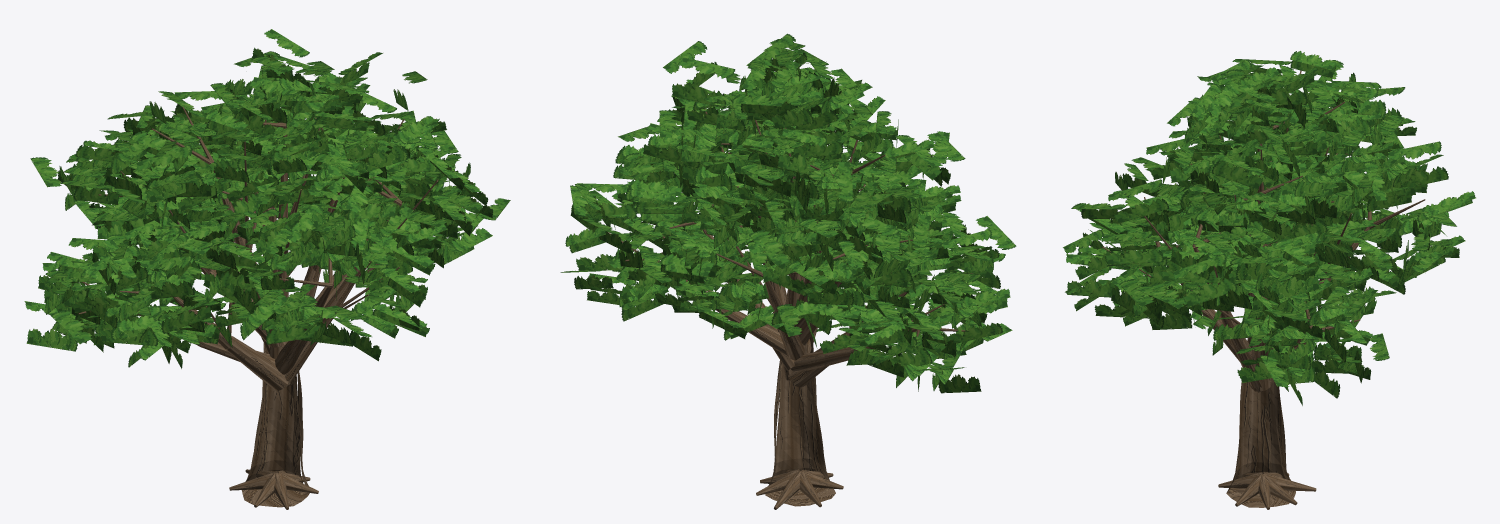
The model's file is oak.glb.
3 views of the same model, side by side, from view 1: azimuth 30°, elevation 25°; view 2: azimuth 150°, elevation 25°; view 3: azimuth 270°, elevation 25° (orthographic).
Visible parts, largest first — view 1: Trunk, Main_Branch_00_A, Leaf_Cluster_0953, Leaf_Cluster_0480, Leaf_Cluster_0023, Main_Branch_05_A, Leaf_Cluster_0595, Leaf_Cluster_1006, Leaf_Cluster_0326, Leaf_Cluster_0825, Leaf_Cluster_0325, Leaf_Cluster_0021 (+2 smaller); view 2: Trunk, Main_Branch_09_A, Main_Branch_10_A, Leaf_Cluster_0487, Leaf_Cluster_0663, Leaf_Cluster_0953, Leaf_Cluster_0486, Leaf_Cluster_1009, Leaf_Cluster_1154, Leaf_Cluster_0791, Leaf_Cluster_1241, Leaf_Cluster_0823; view 3: Trunk, Leaf_Cluster_0907, Leaf_Cluster_0125, Leaf_Cluster_0472, Leaf_Cluster_0859, Leaf_Cluster_0879, Leaf_Cluster_0205, Leaf_Cluster_0580, Leaf_Cluster_0726, Leaf_Cluster_0906, Main_Branch_08_A, Leaf_Cluster_0727 (+4 smaller).
Part boxes in pixels (x1,y1,x2,y2): Trunk: (241,206,309,507); Main_Branch_00_A: (224,336,288,390); Leaf_Cluster_0953: (26,328,77,351); Leaf_Cluster_0480: (353,145,408,174); Leaf_Cluster_0023: (161,306,212,333); Main_Branch_05_A: (275,339,307,374); Leaf_Cluster_0595: (266,324,320,344); Leaf_Cluster_1006: (51,310,92,344); Leaf_Cluster_0326: (146,172,204,203); Leaf_Cluster_0825: (73,186,119,204); Leaf_Cluster_0325: (136,145,192,171); Leaf_Cluster_0021: (148,280,194,299); Trunk: (765,221,835,506); Main_Branch_09_A: (791,347,851,371); Main_Branch_10_A: (725,310,787,355); Leaf_Cluster_0487: (672,83,726,108); Leaf_Cluster_0663: (749,229,790,266); Leaf_Cluster_0953: (938,374,981,393); Leaf_Cluster_0486: (678,57,735,78); Leaf_Cluster_1009: (946,323,1002,343); Leaf_Cluster_1154: (771,108,813,128); Leaf_Cluster_0791: (835,161,853,202); Leaf_Cluster_1241: (793,143,843,158); Leaf_Cluster_0823: (808,290,853,305); Trunk: (1226,218,1295,507); Leaf_Cluster_0907: (1183,277,1237,307); Leaf_Cluster_0125: (1267,275,1319,298); Leaf_Cluster_0472: (1211,160,1262,189); Leaf_Cluster_0859: (1105,248,1163,264); Leaf_Cluster_0879: (1114,198,1168,223); Leaf_Cluster_0205: (1236,263,1287,279); Leaf_Cluster_0580: (1067,279,1118,297); Leaf_Cluster_0726: (1387,141,1441,160); Leaf_Cluster_0906: (1172,253,1226,279); Main_Branch_08_A: (1224,322,1263,392); Leaf_Cluster_0727: (1393,166,1448,186).
Bounding box in the file's own units: 10.23 × 9.66 × 8.24.
Materials: 2 (2 with a texture image).
